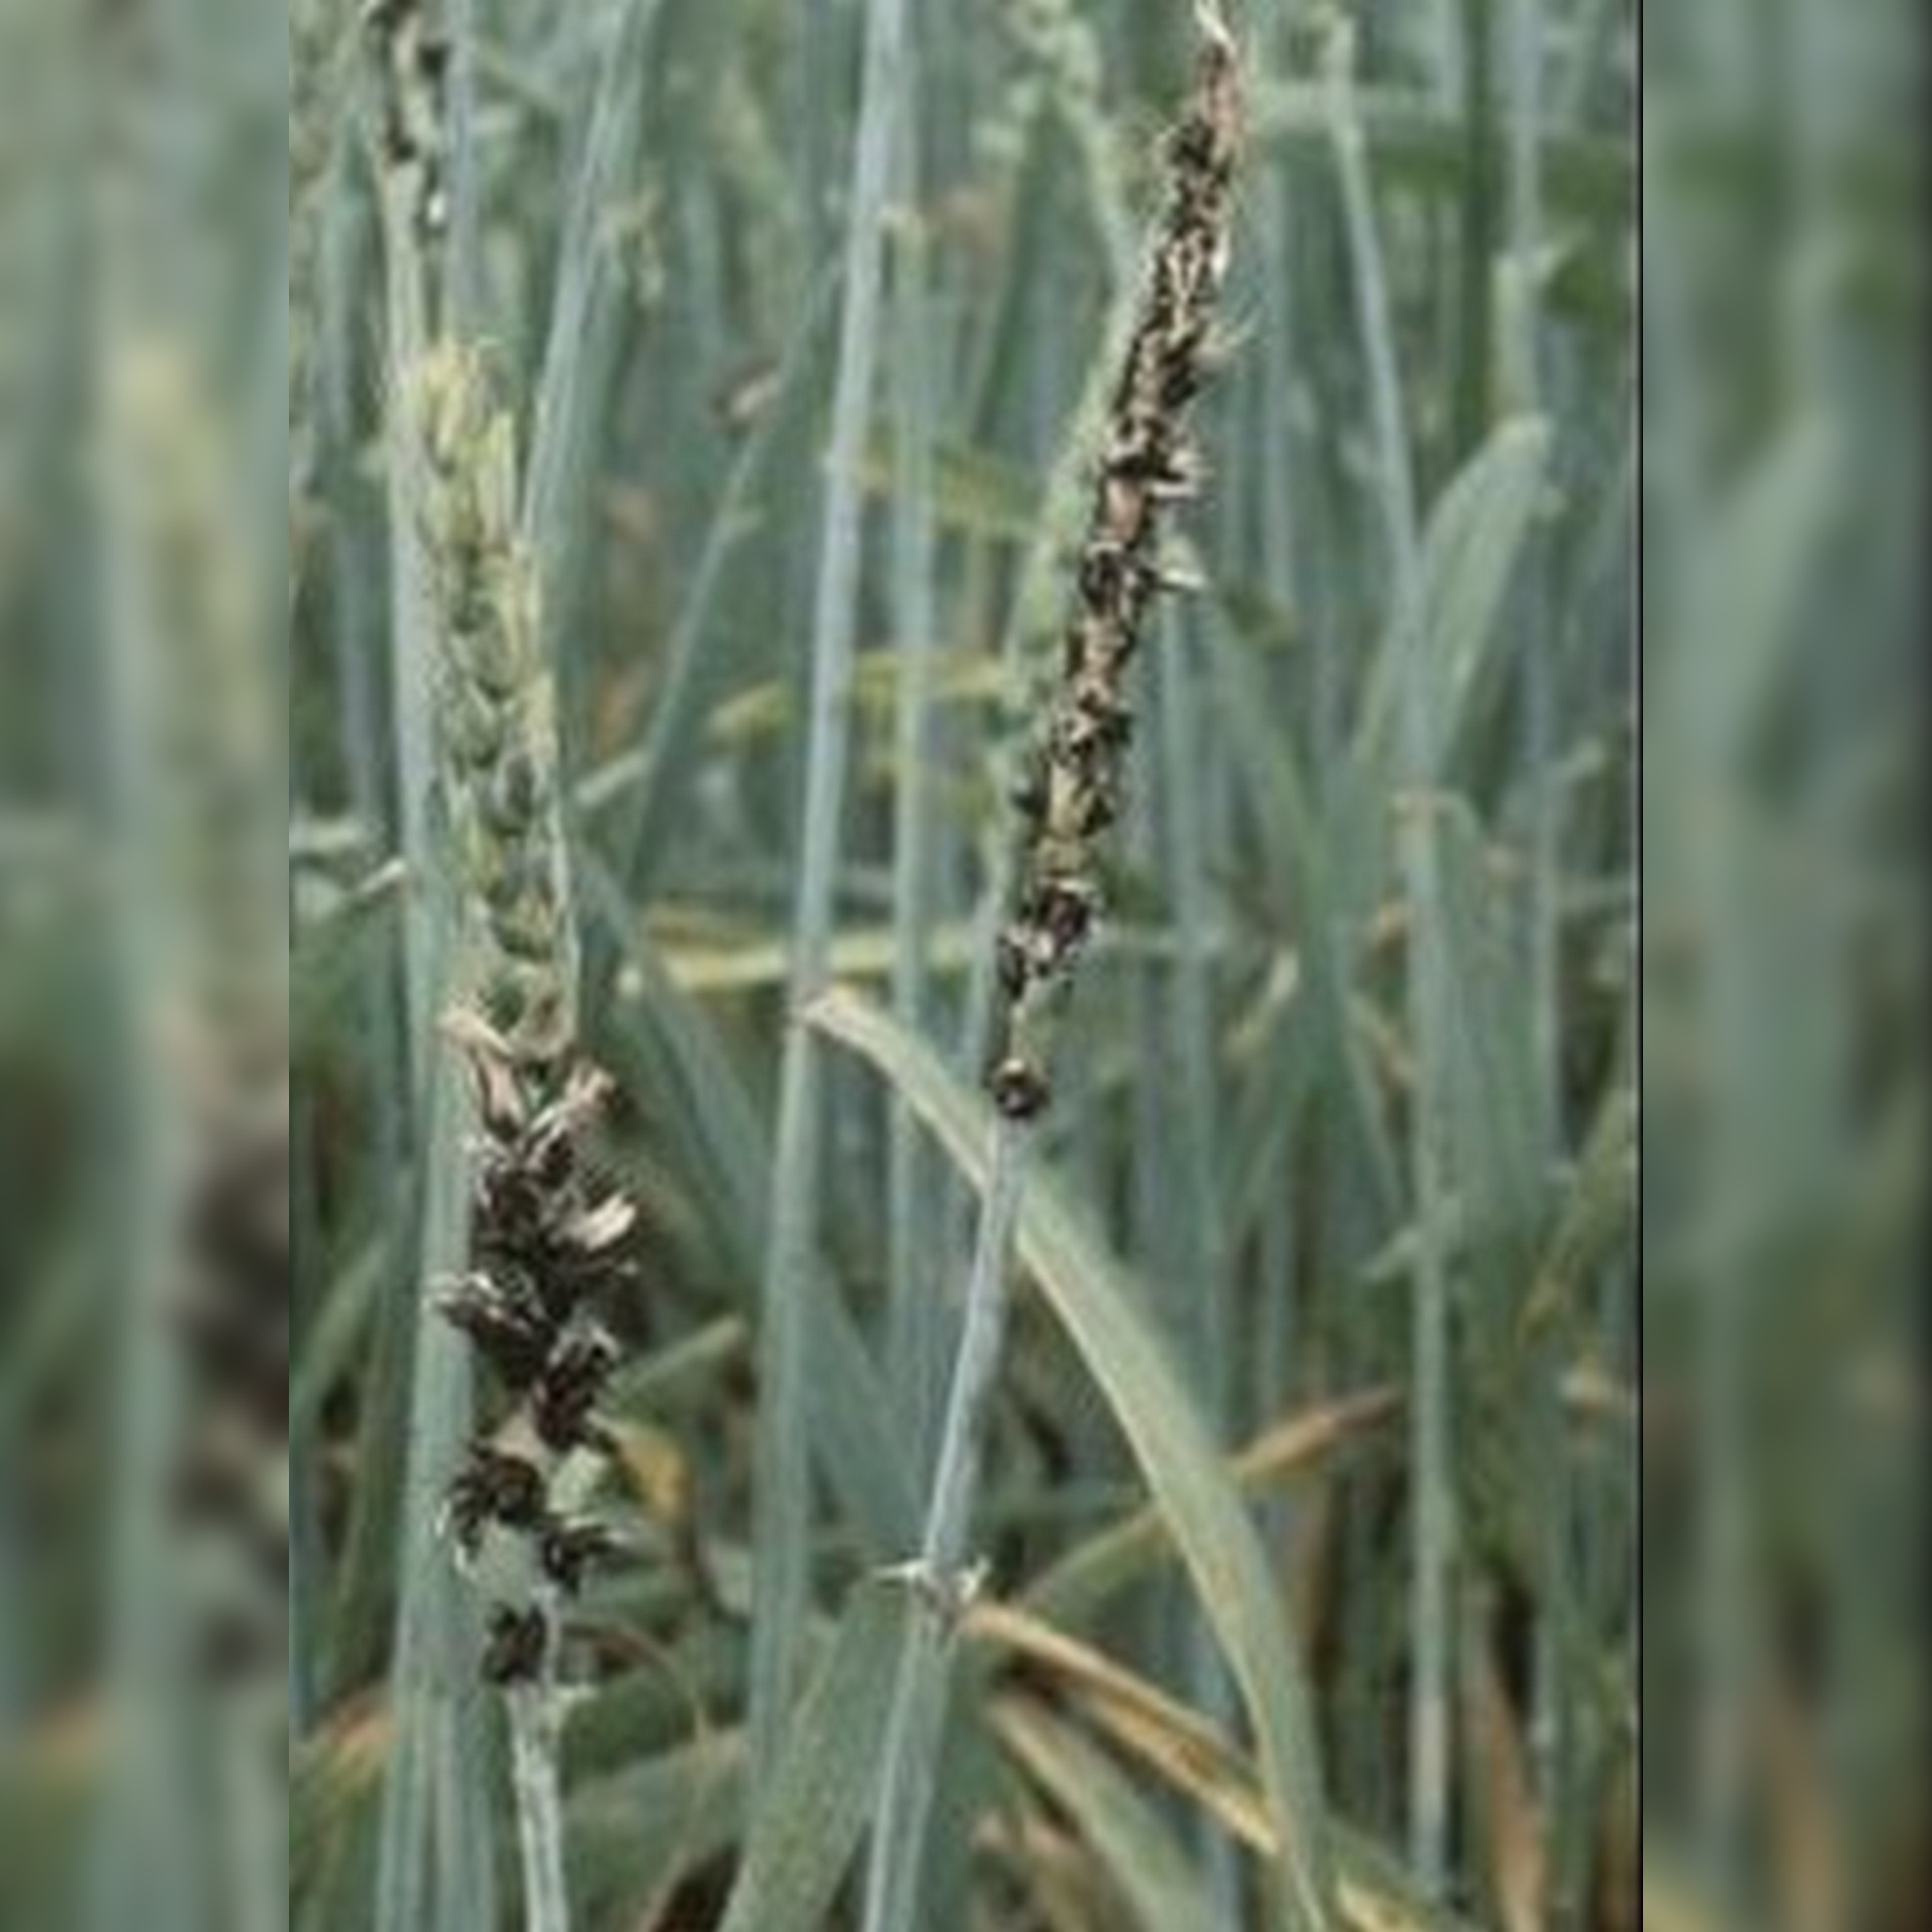Wheat Loose Smut: (952, 85, 1253, 1134), (407, 978, 674, 1536)
